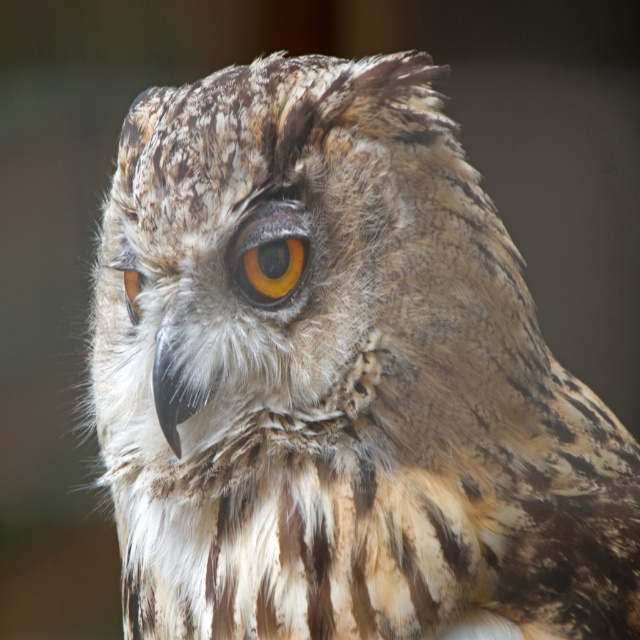Owl: (63, 49, 640, 639)
